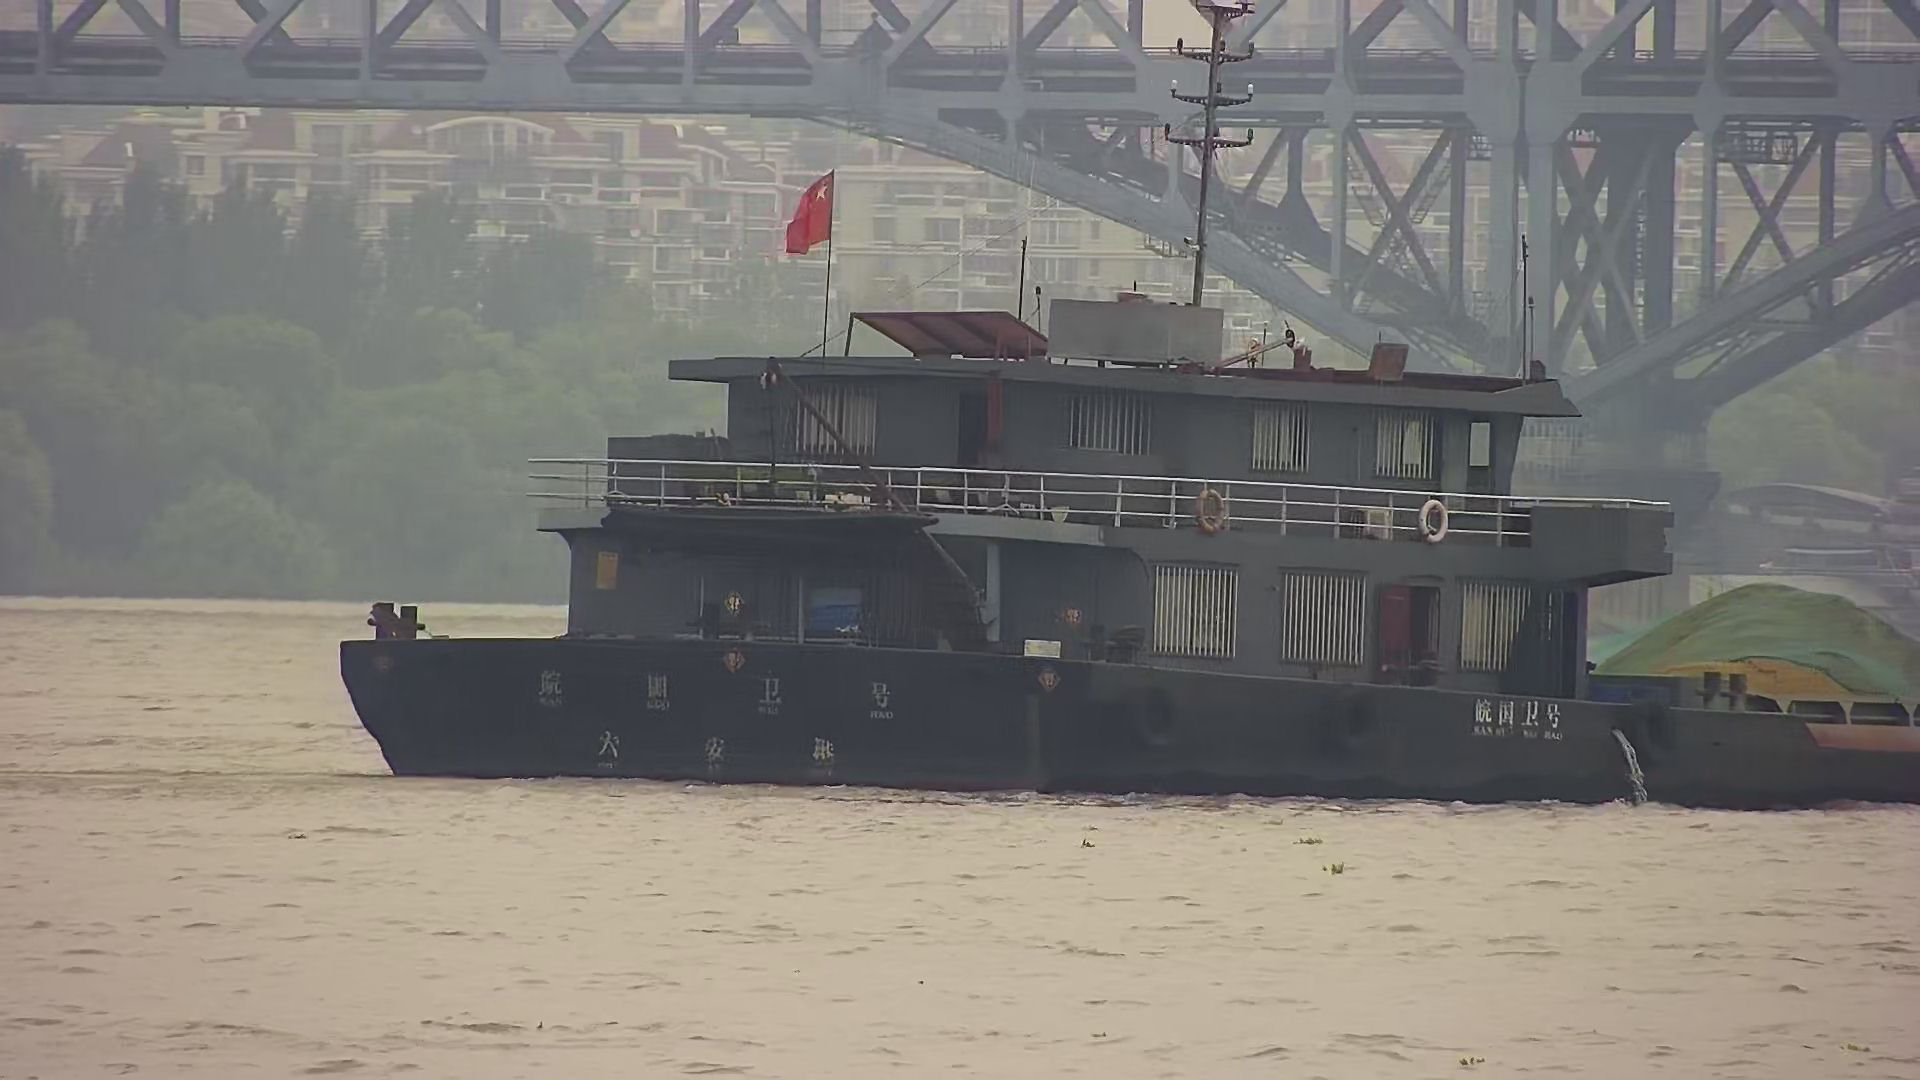bridge: (1, 1, 1915, 589)
ship: (326, 1, 1920, 802)
